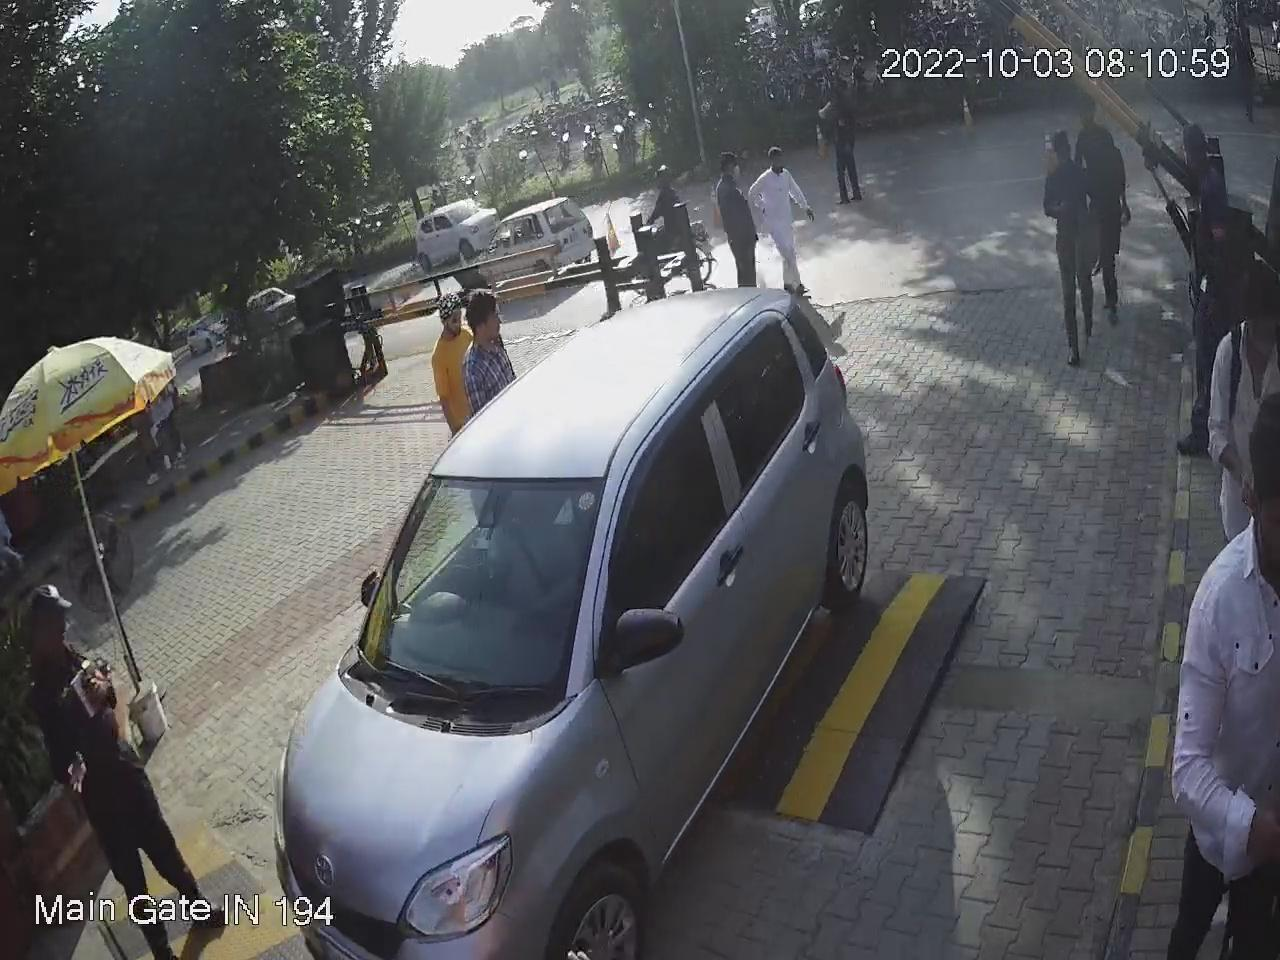windshield: (341, 465, 619, 715)
